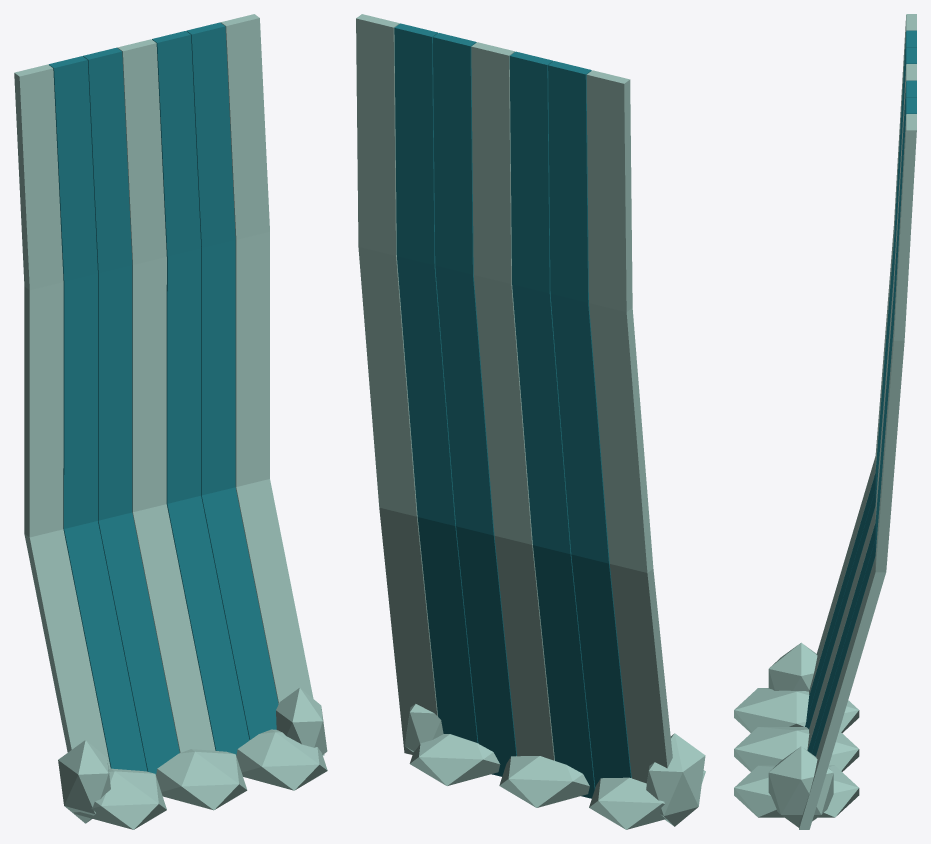
File: PirateCove_WaterfallCurtain_Showcase.glb
3 views of the same model, side by side, from view 1: azimuth 30°, elevation 25°; view 2: azimuth 150°, elevation 25°; view 3: azimuth 270°, elevation 25° (orthographic). The views are drawn at different scales.
Parts seen in each view (by area): view 1: PirateCove_WaterfallCurtain_Showcase; view 2: PirateCove_WaterfallCurtain_Showcase; view 3: PirateCove_WaterfallCurtain_Showcase.
Boxes of the visible parts, x1,y1,x2,y2 form: PirateCove_WaterfallCurtain_Showcase: (14, 14, 327, 829); PirateCove_WaterfallCurtain_Showcase: (356, 14, 705, 829); PirateCove_WaterfallCurtain_Showcase: (734, 14, 916, 829).
Size of the model in its own units: 1.94 by 5.08 by 1.19.
